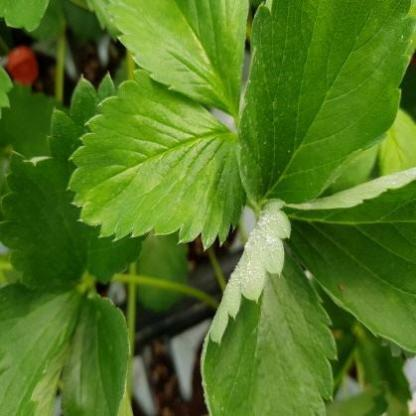Strawberry_Powdery_Mildew_Leaf: (200, 199, 338, 415), (281, 166, 415, 360)
